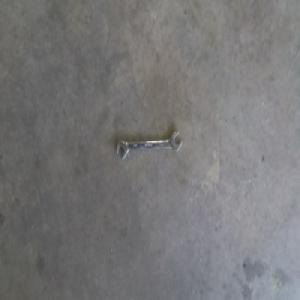Wrench: (116, 124, 182, 152)
